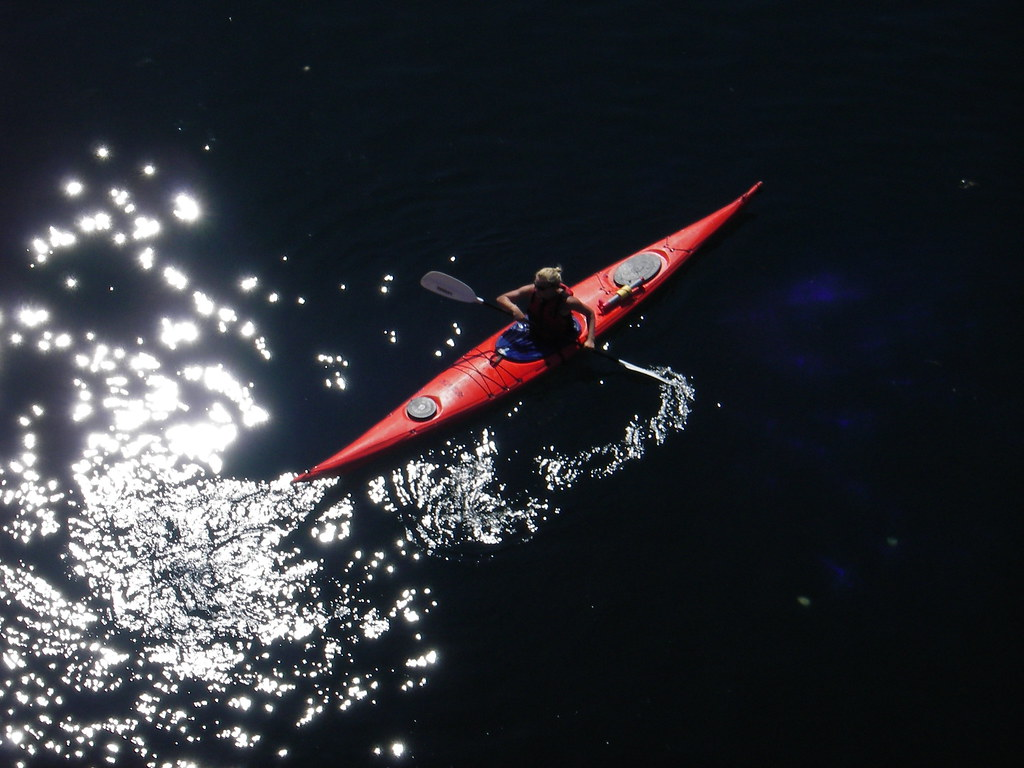kayaker: (289, 179, 763, 487)
